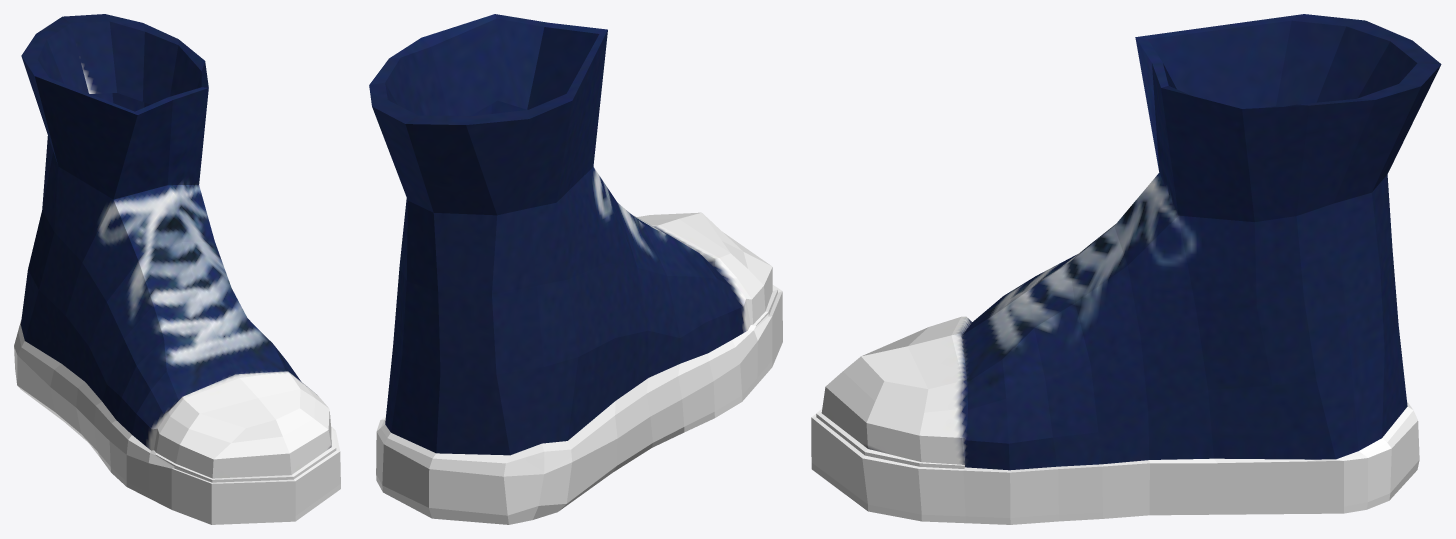
The model's file is xiezi-you.fbx.
The picture shows the model from 3 angles, left to right: view 1: azimuth 30°, elevation 25°; view 2: azimuth 150°, elevation 25°; view 3: azimuth 270°, elevation 25°; orthographic projection. The views are drawn at different scales.
Visible parts, largest first — view 1: polySurface6; view 2: polySurface6; view 3: polySurface6.
Boxes of the visible parts, left/top/right/bottom form: polySurface6: left=14, top=14, right=340, bottom=524; polySurface6: left=369, top=14, right=782, bottom=524; polySurface6: left=811, top=14, right=1441, bottom=524.
Bounding box in the file's own units: 1.58 × 2.71 × 3.73.
1 material, 1 textured.
